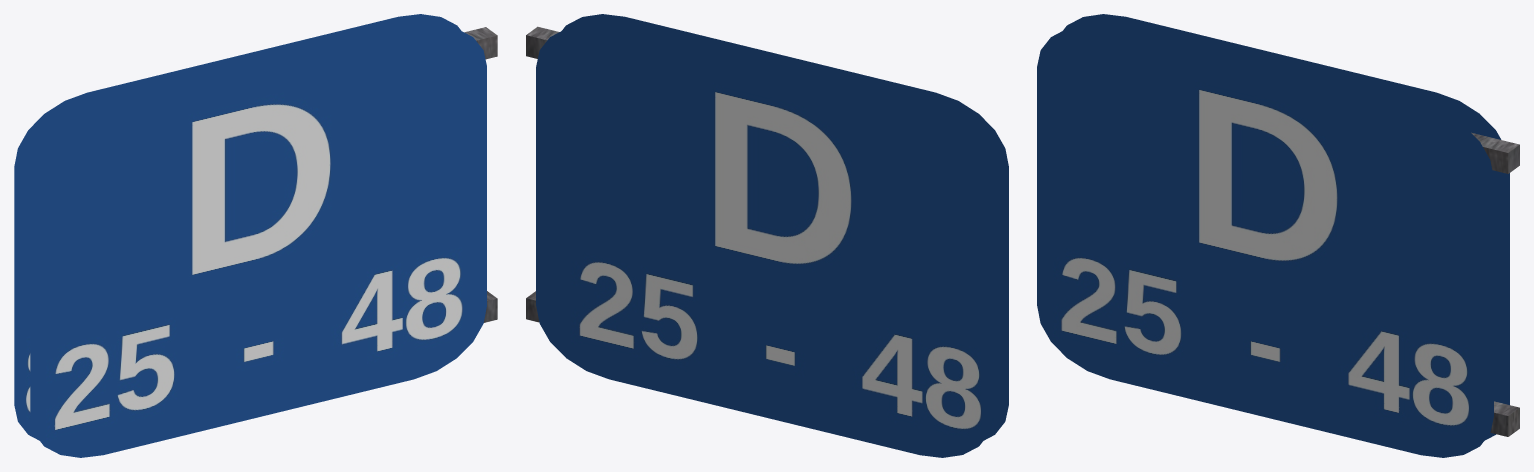
3 views of the same model, side by side, from view 1: azimuth 30°, elevation 25°; view 2: azimuth 150°, elevation 25°; view 3: azimuth 330°, elevation 25° (orthographic).
Parts seen in each view (by area): view 1: Cube; view 2: Cube; view 3: Cube.
Boxes of the visible parts, x1,y1,x2,y2 form: Cube: [14, 14, 497, 457]; Cube: [526, 14, 1008, 457]; Cube: [1037, 14, 1519, 457].
Bounding box in the file's own units: 0.9334 × 0.667 × 0.055.
Materials: 2 (2 with a texture image).
